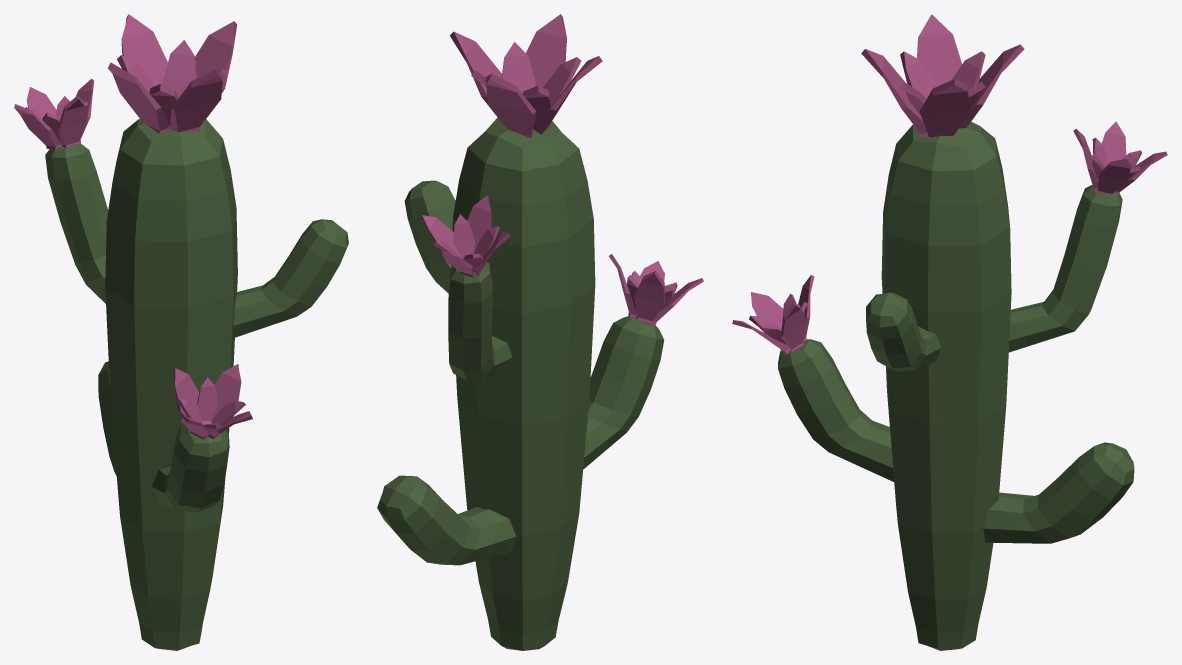
File: CactusFlowers_2.gltf
The picture shows the model from 3 angles, left to right: view 1: azimuth 30°, elevation 25°; view 2: azimuth 150°, elevation 25°; view 3: azimuth 270°, elevation 25°; orthographic projection.
Visible parts, largest first — view 1: CactusFlowers_2; view 2: CactusFlowers_2; view 3: CactusFlowers_2.
Part boxes in pixels (x1,y1,x2,y2): CactusFlowers_2: (14, 14, 348, 650); CactusFlowers_2: (377, 14, 703, 650); CactusFlowers_2: (732, 14, 1167, 650).
Size of the model in its own units: 0.7654 by 1.94 by 1.28.
